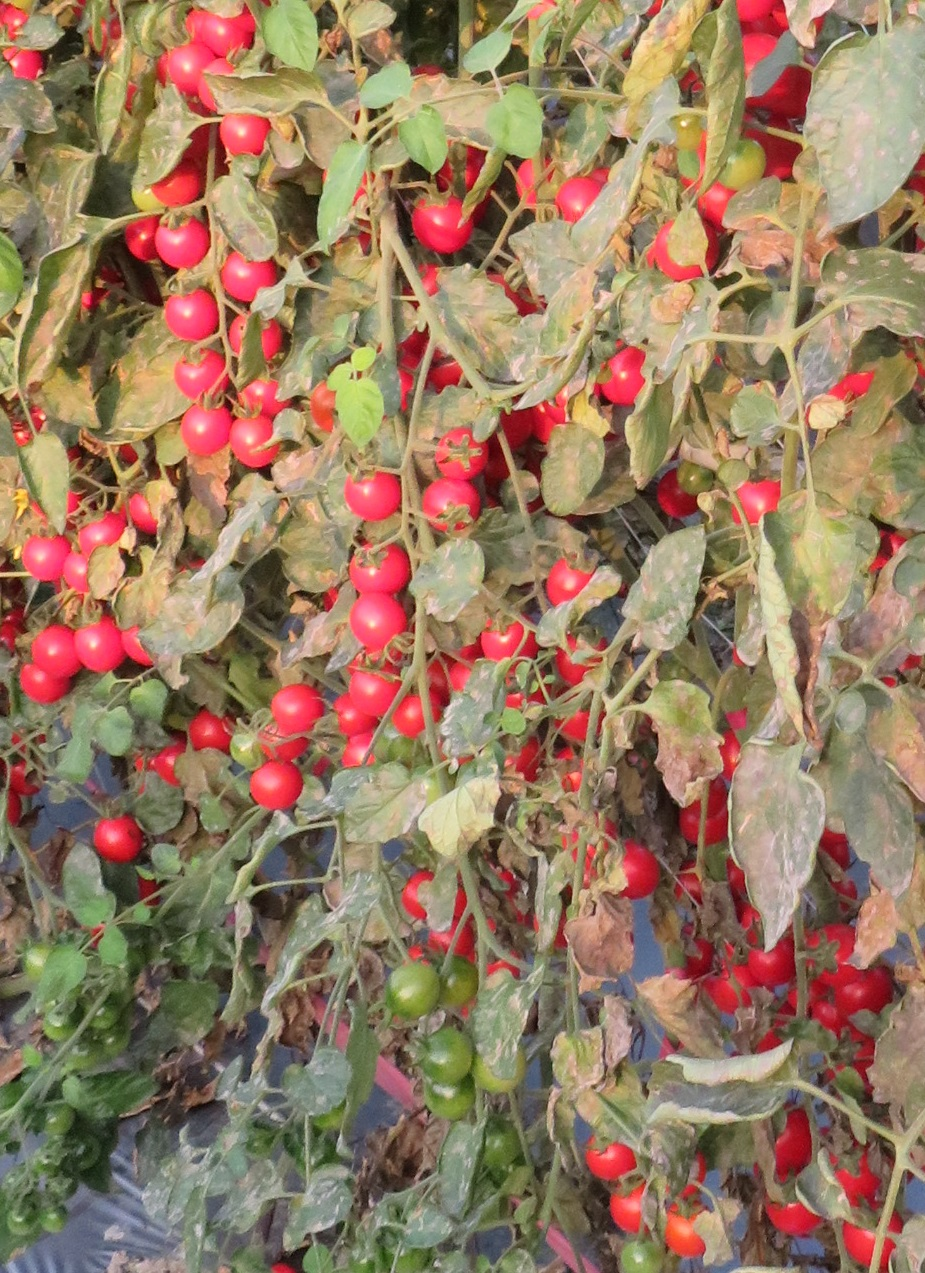green: (383, 958, 442, 1016), (413, 1071, 479, 1116), (428, 1027, 479, 1079), (719, 138, 771, 187)
orange: (669, 1210, 717, 1257)
red: (343, 541, 413, 602), (411, 196, 474, 246), (246, 758, 305, 811), (438, 424, 487, 486), (549, 177, 613, 224), (346, 469, 399, 524), (346, 668, 402, 719), (151, 221, 210, 269), (172, 353, 228, 402), (18, 532, 67, 587), (580, 1137, 641, 1181), (93, 816, 146, 865), (417, 482, 472, 529), (20, 665, 79, 707), (272, 685, 323, 733), (31, 624, 79, 673), (78, 621, 125, 671), (603, 352, 649, 403), (218, 113, 274, 154), (164, 298, 217, 341), (158, 46, 213, 84), (768, 1196, 825, 1232), (353, 603, 403, 644), (231, 424, 275, 470), (183, 406, 226, 452), (221, 257, 267, 298), (610, 1190, 649, 1233), (626, 856, 662, 900), (747, 952, 792, 979), (830, 981, 875, 1008), (85, 517, 124, 545)
